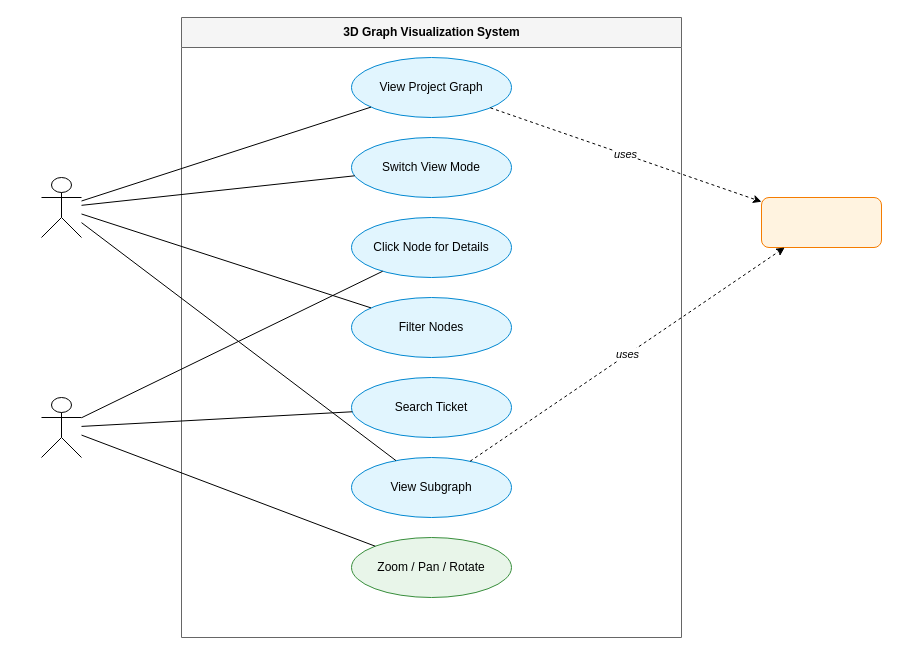
This 899x655 diagram has some shape labels left out. The centre of each missing label's shape, as x and y in pixels:
"Backend API" goes at point 821,222.
"Project Manager" goes at point 61,207.
"Team Member" goes at point 61,427.
